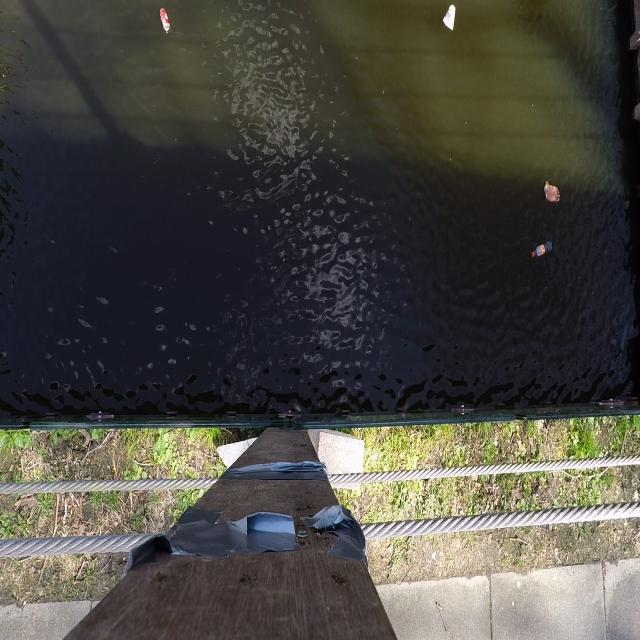Bouteille plastique: (528, 234, 558, 266)
Non plastique: (436, 0, 463, 41), (154, 0, 173, 38)
